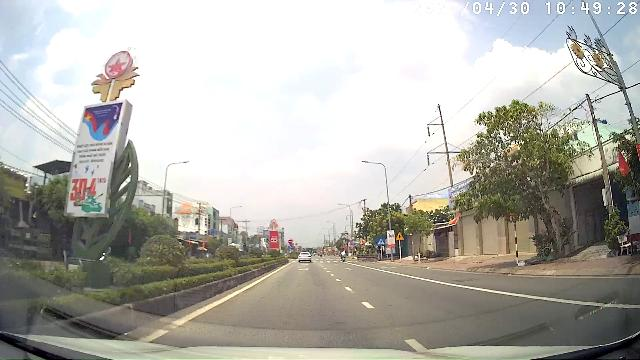423a-duong-nguoi-di-bo-sang-ngang-1: (377, 237, 385, 245)
